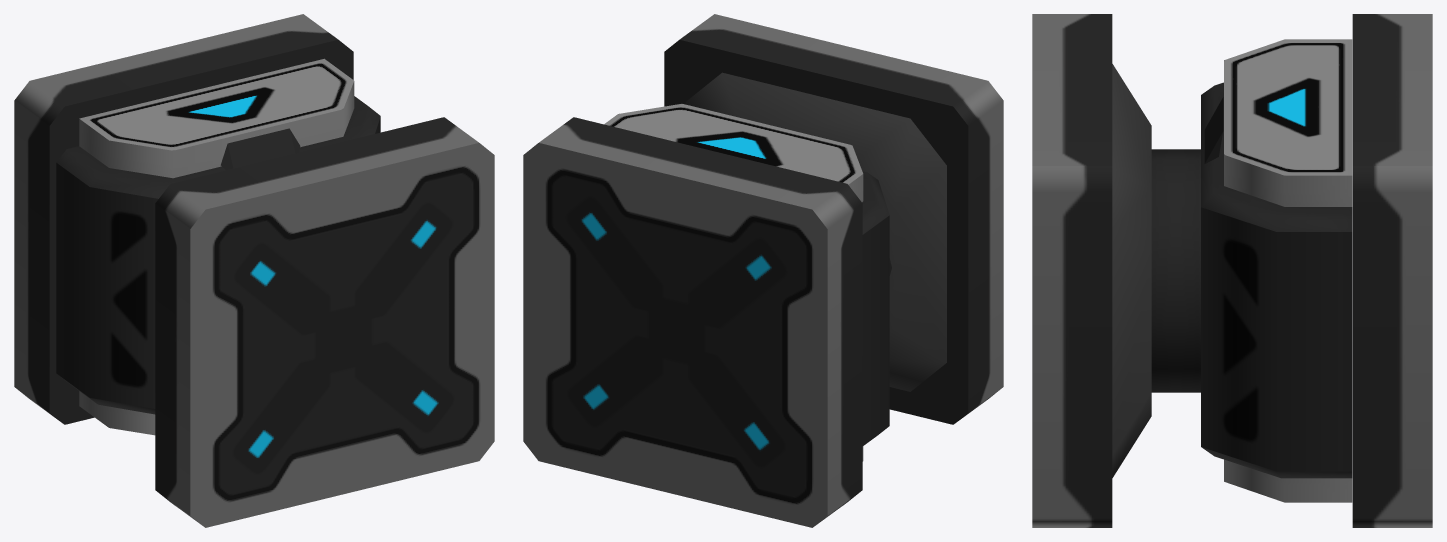
Rendered from obj_interactive_piston_04_off.fbx.
3 renders of one model, left to right at view 1: azimuth 30°, elevation 25°; view 2: azimuth 150°, elevation 25°; view 3: azimuth 270°, elevation 25°, orthographic. The views are drawn at different scales.
Visible parts, largest first — view 1: obj_interactive_piston_04_off; view 2: obj_interactive_piston_04_off; view 3: obj_interactive_piston_04_off.
Part boxes in pixels (x1,y1,x2,y2): obj_interactive_piston_04_off: (14, 14, 494, 527); obj_interactive_piston_04_off: (523, 14, 1003, 527); obj_interactive_piston_04_off: (1032, 14, 1432, 527).
Size of the model in its own units: 1 by 1 by 1.
